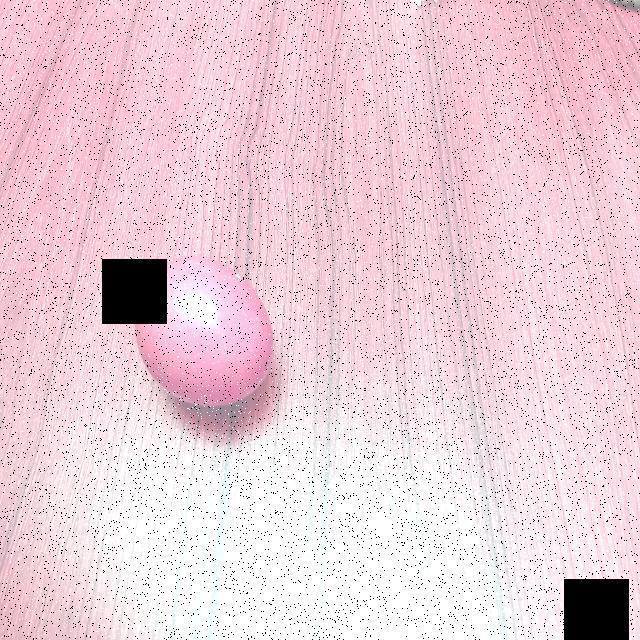egg: (127, 244, 284, 411)
